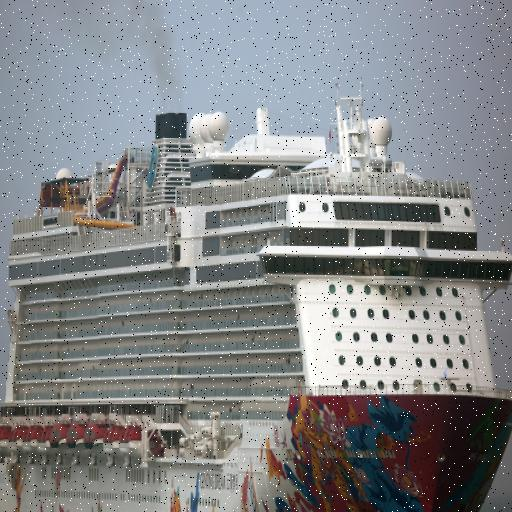cruises: (1, 91, 512, 512)
